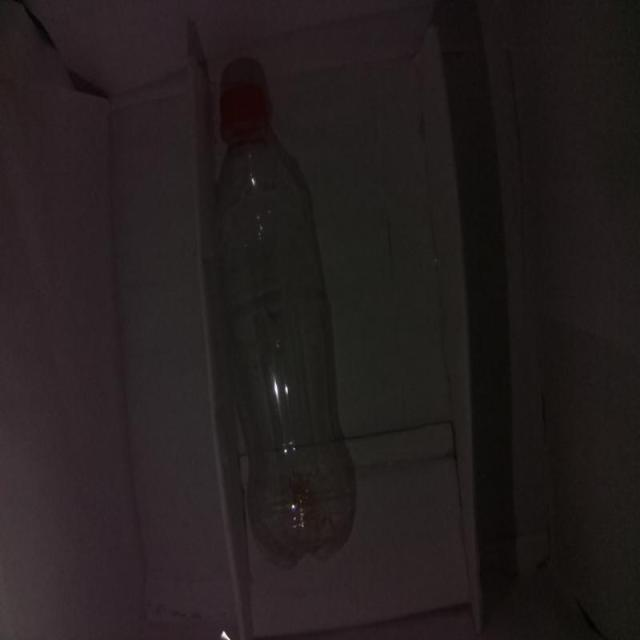Pet_Bottle: (194, 61, 368, 568)
